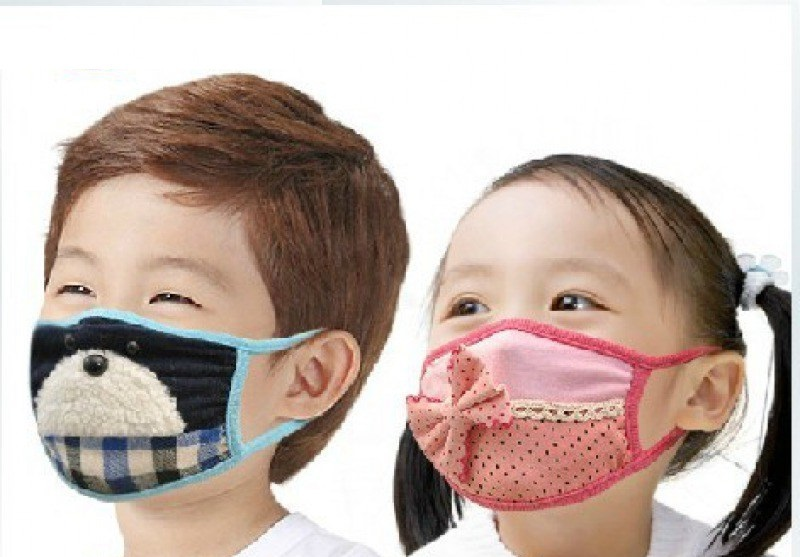face_mask: (406, 227, 646, 512), (29, 234, 247, 503)
